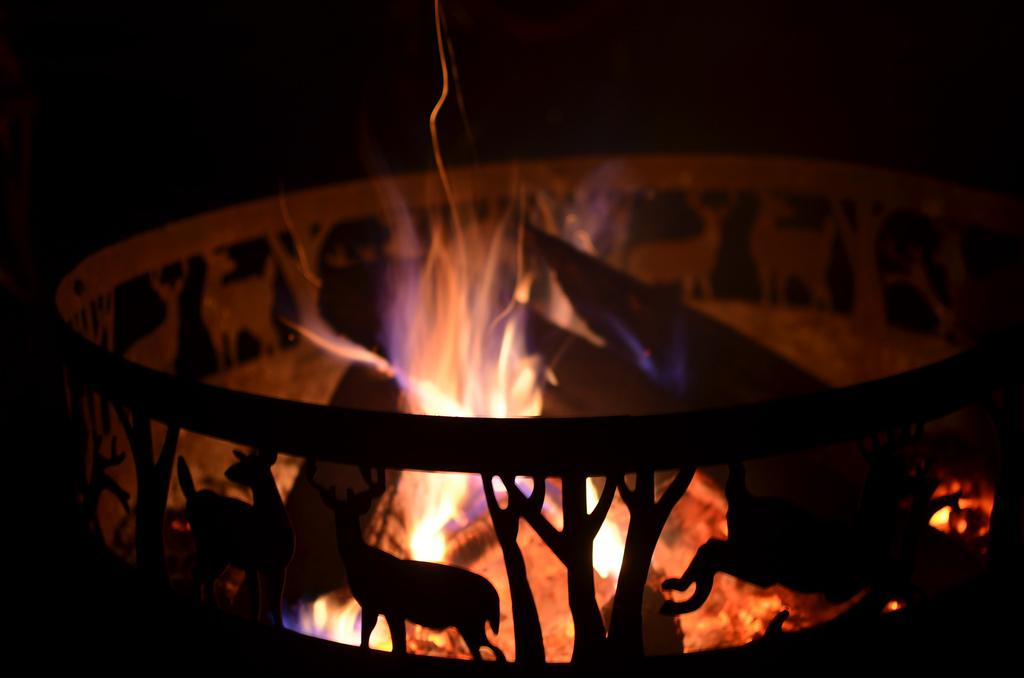fire: (403, 240, 548, 415), (392, 472, 475, 552)
